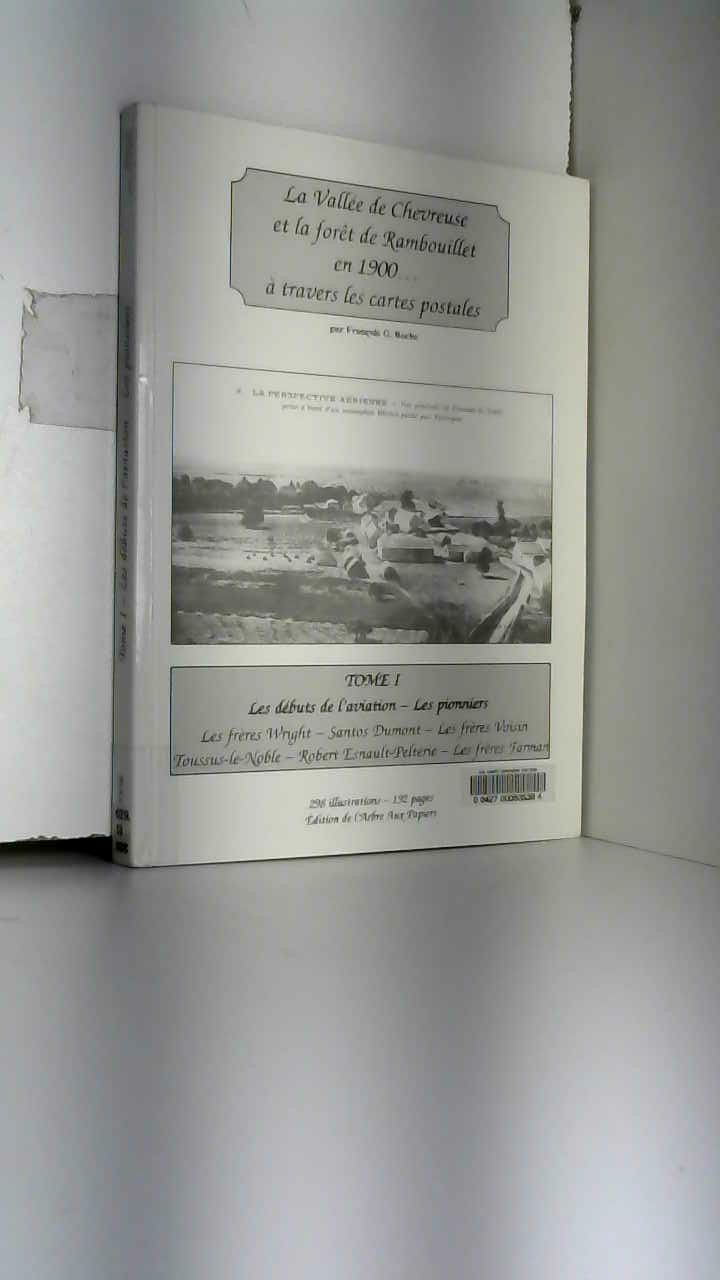book: (86, 69, 638, 908)
